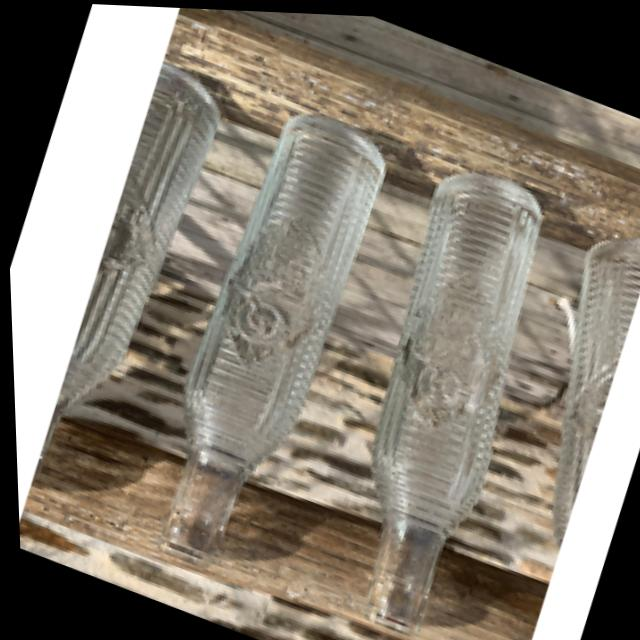glass_beverage_bottles: (115, 88, 411, 584), (295, 154, 575, 640), (34, 52, 233, 451), (486, 212, 640, 559)
